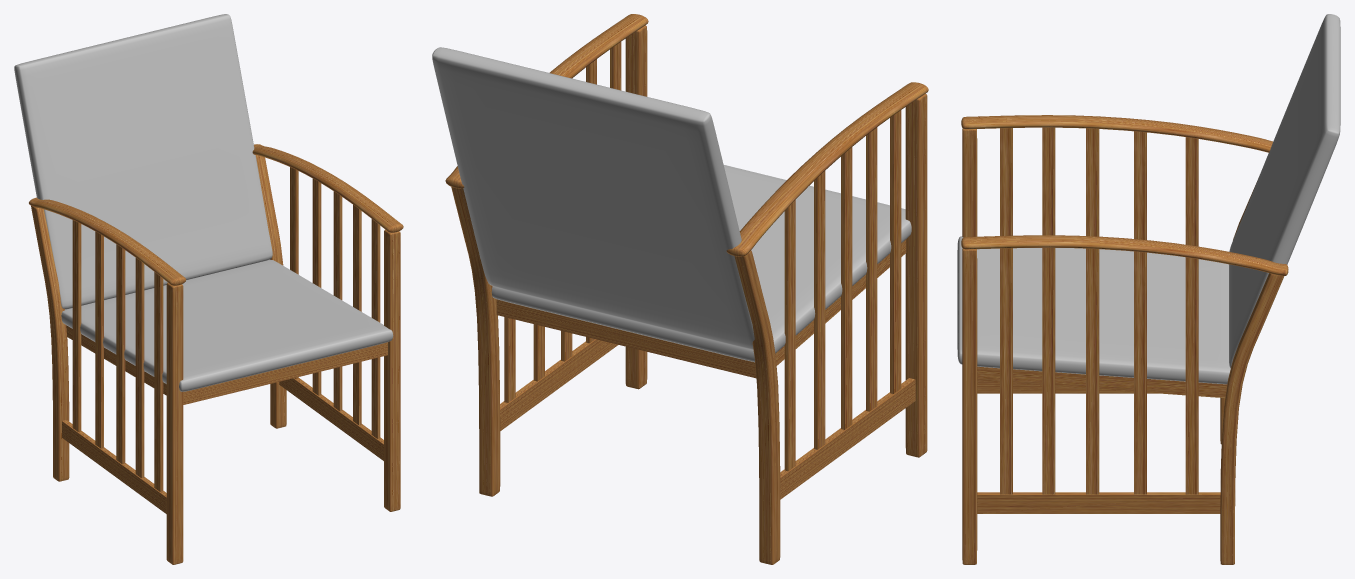
The model's file is patiochair.fbx.
3 renders of one model, left to right at view 1: azimuth 30°, elevation 25°; view 2: azimuth 150°, elevation 25°; view 3: azimuth 270°, elevation 25°, orthographic. The views are drawn at different scales.
Parts seen in each view (by area): view 1: pCube4, pCube1, pCube3 (×2), pCube5 (×2), pCube6 (×2), pCube7 (×2), pCube8 (×2), pCube9 (×2), pCube10 (×2), pCube2, pCube11 (×2), pCube12 (×2); view 2: pCube4, pCube1, pCube5 (×2), pCube3 (×2), pCube6 (×2), pCube7 (×2), pCube2, pCube12 (×2), pCube11 (×2), pCube9, pCube8, pCube10; view 3: pCube1, pCube4, pCube6 (×2), pCube3 (×2), pCube7 (×2), pCube9 (×2), pCube10 (×2), pCube12 (×2), pCube5, pCube8 (×2), pCube11 (×2), pCube2.
Part boxes in pixels (x1,y1,x2,y2): pCube4: (14,14,272,309); pCube1: (61,259,393,391); pCube3 (×2): (166,229,400,564); pCube5 (×2): (31,155,286,481); pCube6 (×2): (29,144,403,285); pCube7 (×2): (62,378,383,513); pCube8 (×2): (154,219,380,491); pCube9 (×2): (135,205,361,478); pCube10 (×2): (116,191,342,464); pCube2: (66,325,387,404); pCube11 (×2): (95,179,321,448); pCube12 (×2): (72,167,298,431); pCube4: (432,47,754,349); pCube1: (491,165,911,362); pCube5 (×2): (451,187,780,564); pCube3 (×2): (625,25,927,457); pCube6 (×2): (445,14,928,256); pCube7 (×2): (500,339,915,499); pCube2: (496,239,906,378); pCube12 (×2): (504,200,795,471); pCube11 (×2): (533,171,825,449); pCube9: (866,127,877,411); pCube8: (890,110,901,393); pCube10: (841,147,852,429); pCube1: (957,236,1230,384); pCube4: (1229,14,1340,368); pCube6 (×2): (961,115,1288,275); pCube3 (×2): (962,128,977,564); pCube7 (×2): (977,380,1220,513); pCube9 (×2): (1042,127,1055,494); pCube10 (×2): (1086,128,1099,494); pCube12 (×2): (1185,137,1198,494); pCube5: (1220,273,1284,564); pCube8 (×2): (1000,128,1012,494); pCube11 (×2): (1134,131,1146,494); pCube2: (977,366,1227,397).
Size of the model in its own units: 2.72 by 4.23 by 3.41.
